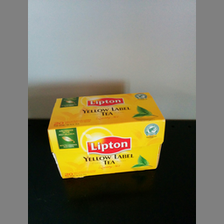tea: (47, 91, 165, 180)
